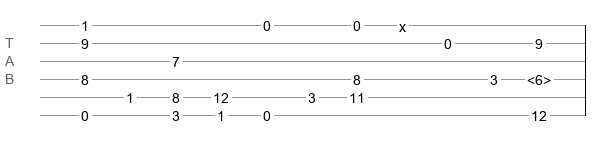0: (81, 108, 89, 118), (263, 108, 271, 118), (263, 18, 271, 28), (353, 18, 361, 28), (444, 36, 452, 46)
1: (81, 18, 89, 28), (126, 90, 134, 100), (217, 108, 225, 118)
11: (349, 90, 365, 100)
12: (213, 90, 229, 100), (531, 108, 547, 118)
3: (172, 108, 180, 118), (308, 90, 316, 100), (490, 72, 498, 82)
7: (172, 54, 180, 64)
8: (81, 72, 89, 82), (172, 90, 180, 100), (353, 72, 361, 82)
9: (81, 36, 89, 46), (535, 36, 543, 46)
harmonic: (527, 72, 551, 82)
x: (399, 19, 406, 27)
